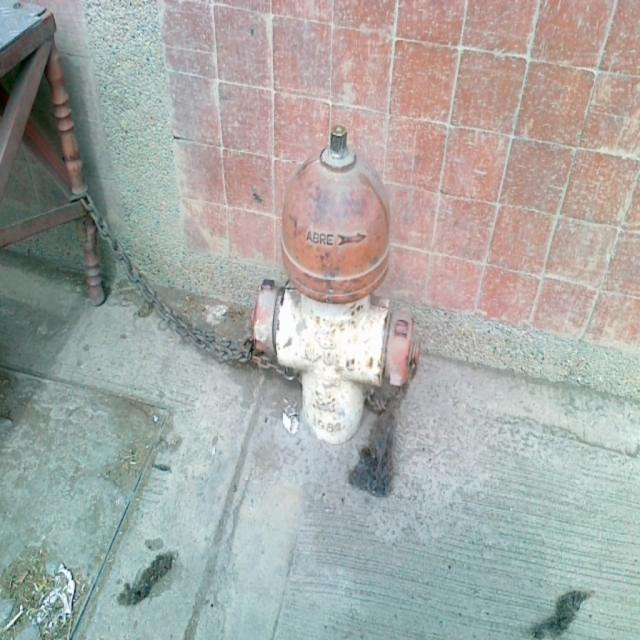fire_hydrant: (253, 126, 421, 442)
